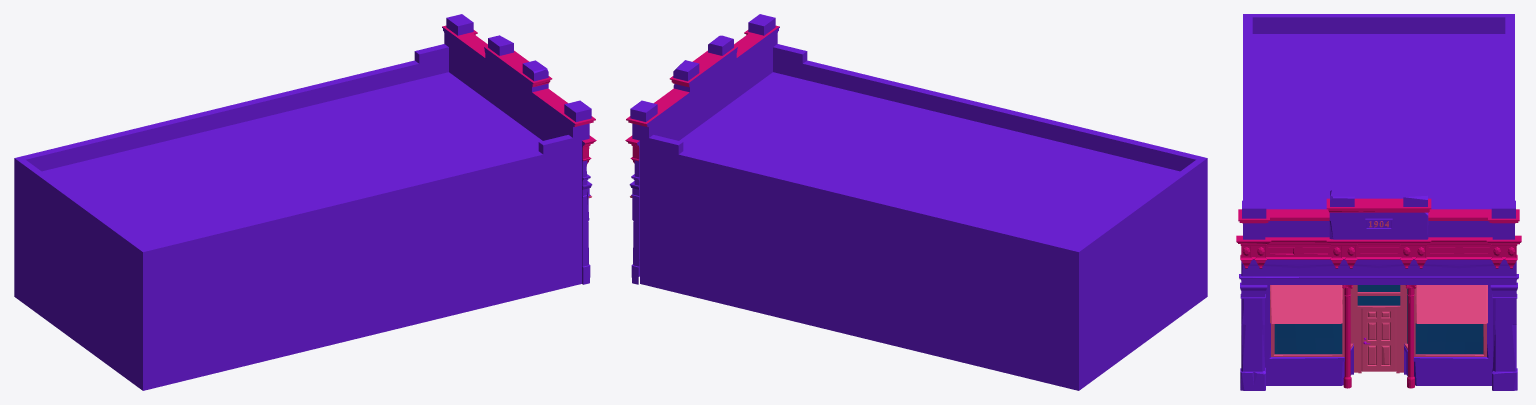
File: Backhill_Building00.fbx
3 renders of one model, left to right at view 1: azimuth 30°, elevation 25°; view 2: azimuth 150°, elevation 25°; view 3: azimuth 270°, elevation 25°, orthographic. The views are drawn at different scales.
Visible parts, largest first — view 1: SM_Backhill_Building_01.mo; view 2: SM_Backhill_Building_01.mo; view 3: SM_Backhill_Building_01.mo.
Boxes of the visible parts, box(x1,y1,x2,y2) form: SM_Backhill_Building_01.mo: box(14, 14, 596, 390); SM_Backhill_Building_01.mo: box(625, 14, 1207, 390); SM_Backhill_Building_01.mo: box(1236, 14, 1521, 390).
Bounding box in the file's own units: 1722 × 652 × 871.
